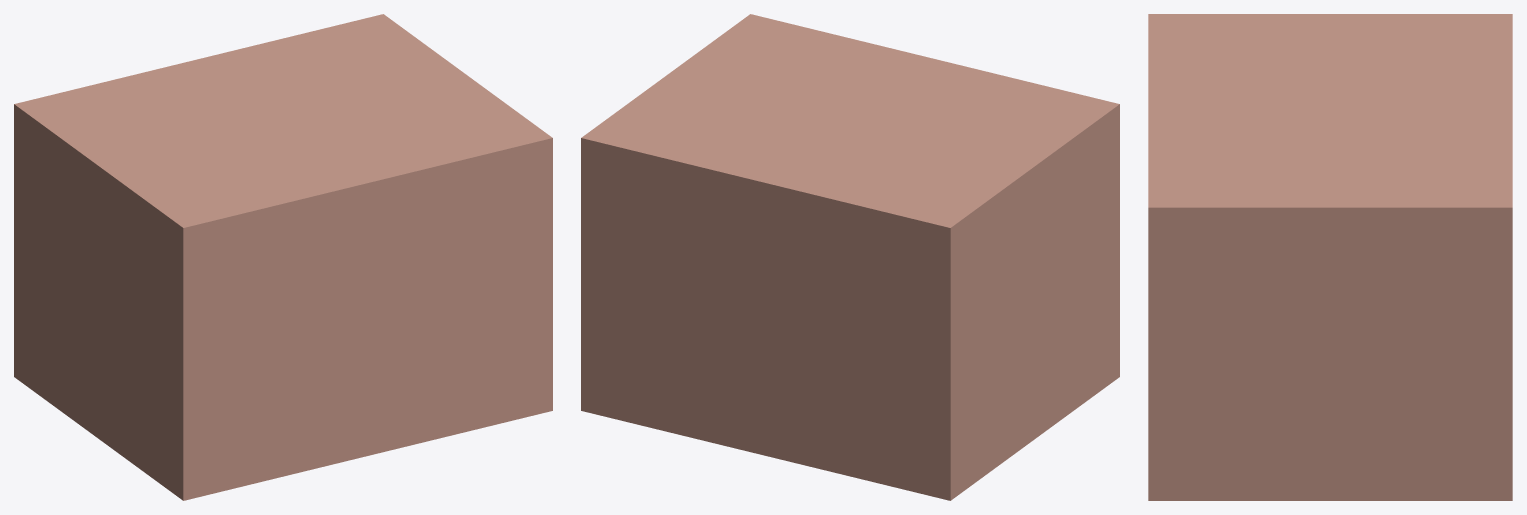
The picture shows the model from 3 angles, left to right: view 1: azimuth 30°, elevation 25°; view 2: azimuth 150°, elevation 25°; view 3: azimuth 270°, elevation 25°; orthographic projection. The views are drawn at different scales.
Visible parts, largest first — view 1: lod3-envelope; view 2: lod3-envelope; view 3: lod3-envelope.
Part boxes in pixels (box(x1,y1,x2,y2)): lod3-envelope: box(14, 14, 552, 500); lod3-envelope: box(581, 14, 1119, 500); lod3-envelope: box(1148, 14, 1512, 500).
Bounding box in the file's own units: 10.2 × 7.2 × 8.1.
